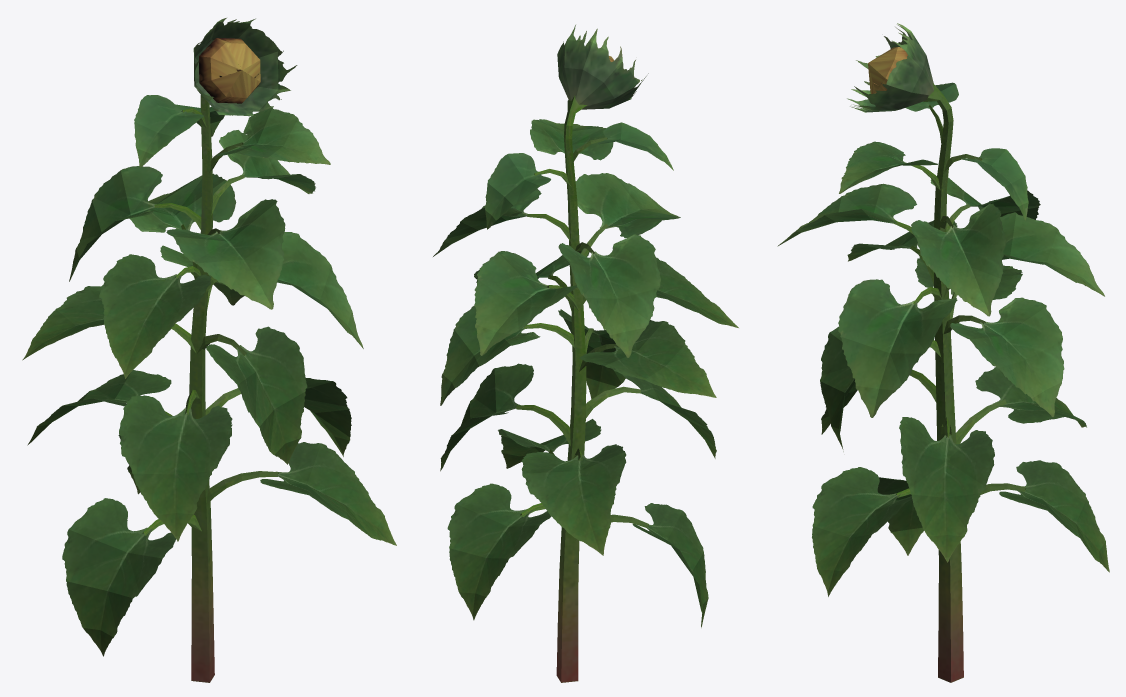
The model's file is P_Herb_00329.obj.
3 renders of one model, left to right at view 1: azimuth 30°, elevation 25°; view 2: azimuth 150°, elevation 25°; view 3: azimuth 270°, elevation 25°, orthographic. The views are drawn at different scales.
Bounding box in the file's own units: 1.02 × 2.11 × 0.9765.
Materials: 1 (1 with a texture image).
